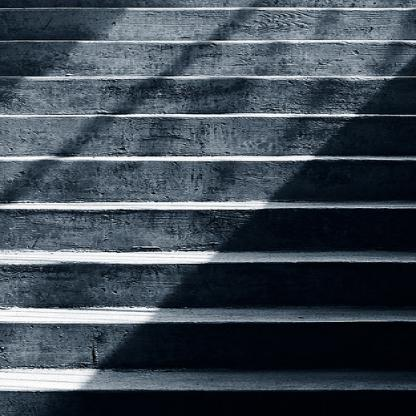stairs: (3, 3, 415, 416)
